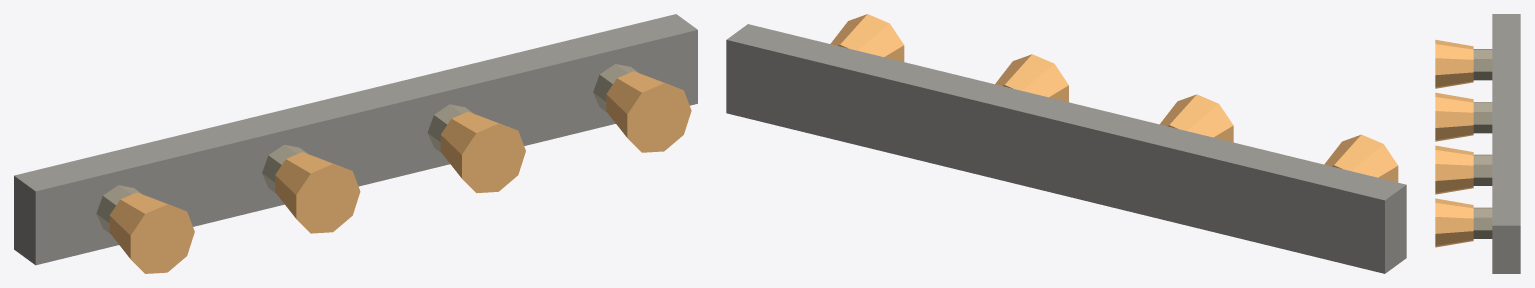
Rendered from mirror-light.glb.
The picture shows the model from 3 angles, left to right: view 1: azimuth 30°, elevation 25°; view 2: azimuth 150°, elevation 25°; view 3: azimuth 270°, elevation 25°; orthographic projection. The views are drawn at different scales.
Parts seen in each view (by area): view 1: brushed, emissive-warm, plastic-light; view 2: brushed, emissive-warm; view 3: brushed, emissive-warm, plastic-light.
Part boxes in pixels (<box>): brushed: <box>14,14,697,265</box>; emissive-warm: <box>109,71,691,273</box>; plastic-light: <box>96,64,639,233</box>; brushed: <box>726,24,1406,273</box>; emissive-warm: <box>830,14,1398,182</box>; brushed: <box>1492,14,1520,273</box>; emissive-warm: <box>1435,39,1473,247</box>; plastic-light: <box>1473,49,1492,238</box>.
Size of the model in its own units: 0.6 by 0.064 by 0.102.
